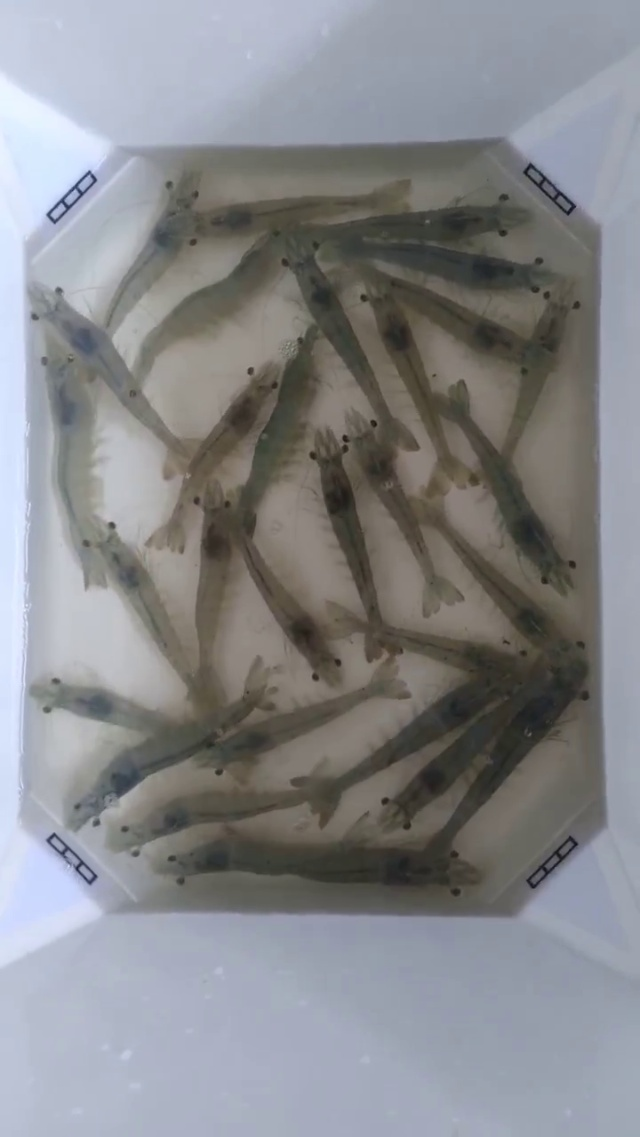shrimp: (548, 125, 639, 486), (521, 428, 639, 704), (556, 508, 639, 788), (55, 425, 157, 618), (147, 383, 260, 552), (69, 514, 185, 673), (71, 743, 184, 903), (333, 724, 442, 883), (175, 655, 274, 828), (111, 725, 220, 880), (109, 148, 200, 320), (30, 283, 143, 419), (242, 330, 317, 531), (455, 155, 557, 292), (315, 214, 424, 331), (0, 245, 51, 486), (500, 286, 569, 460), (186, 154, 275, 287), (331, 339, 418, 460), (269, 584, 365, 691), (249, 193, 370, 270), (310, 408, 375, 533), (29, 676, 159, 735), (383, 436, 474, 520), (0, 541, 29, 785)
